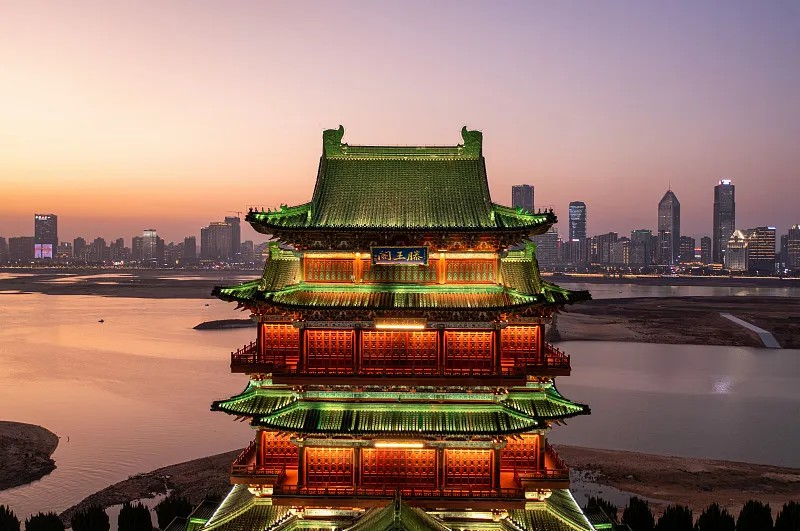Teng: (208, 126, 591, 531)
